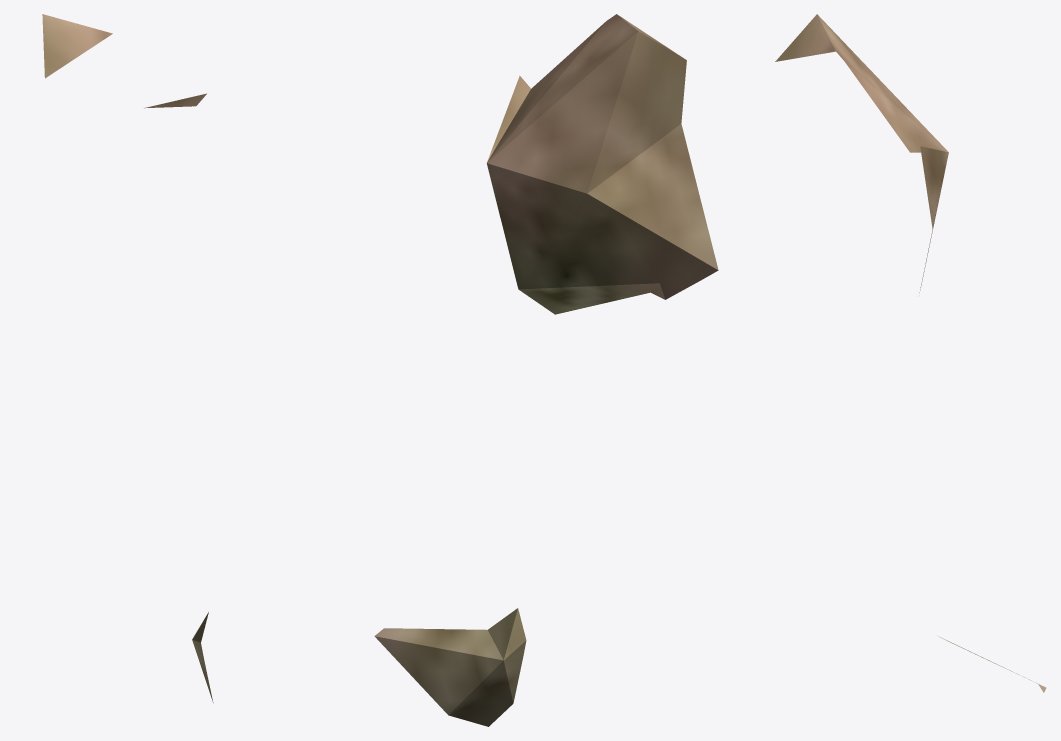
3 views of the same model, side by side, from view 1: azimuth 30°, elevation 25°; view 2: azimuth 150°, elevation 25°; view 3: azimuth 330°, elevation 25° (orthographic). The views are drawn at different scales.
Bounding box in the file's own units: 0.6345 × 1.35 × 0.1595.
1 material, 1 textured.
